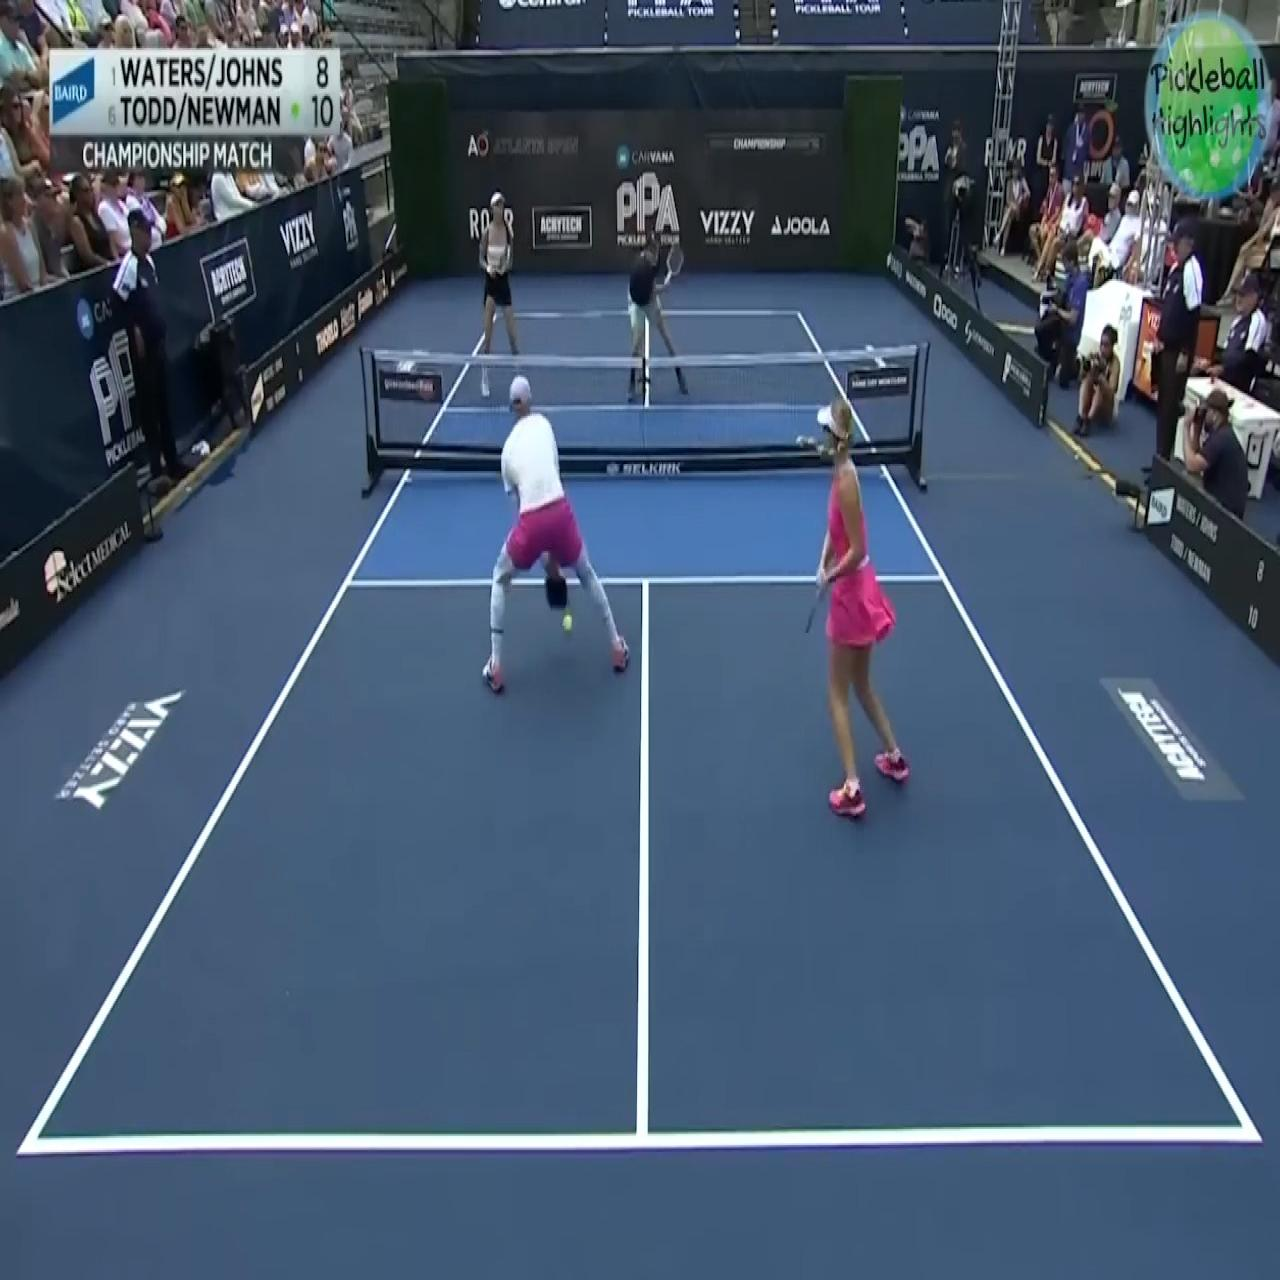Pickleball: (561, 610, 574, 634)
